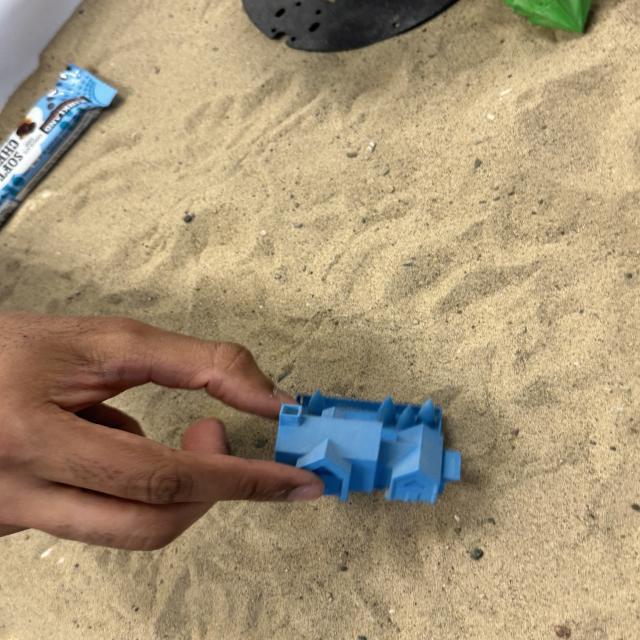house: (272, 389, 462, 505)
